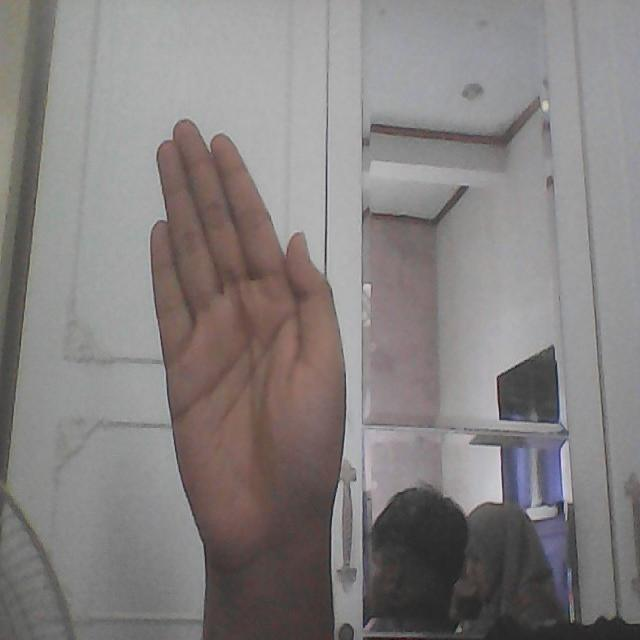hand: (119, 110, 370, 640)
